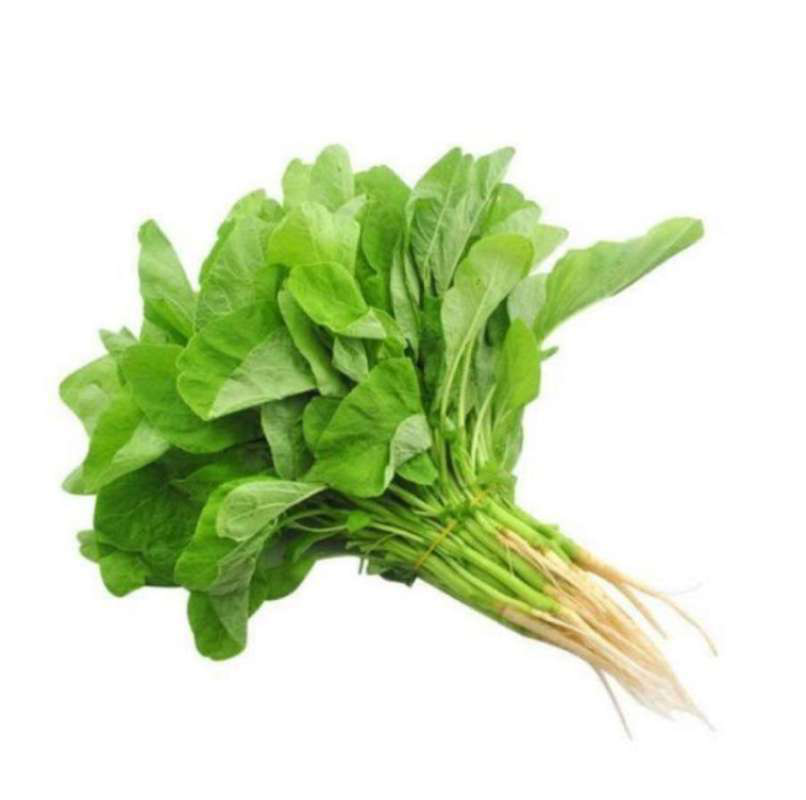Bayam: (50, 92, 745, 776)
